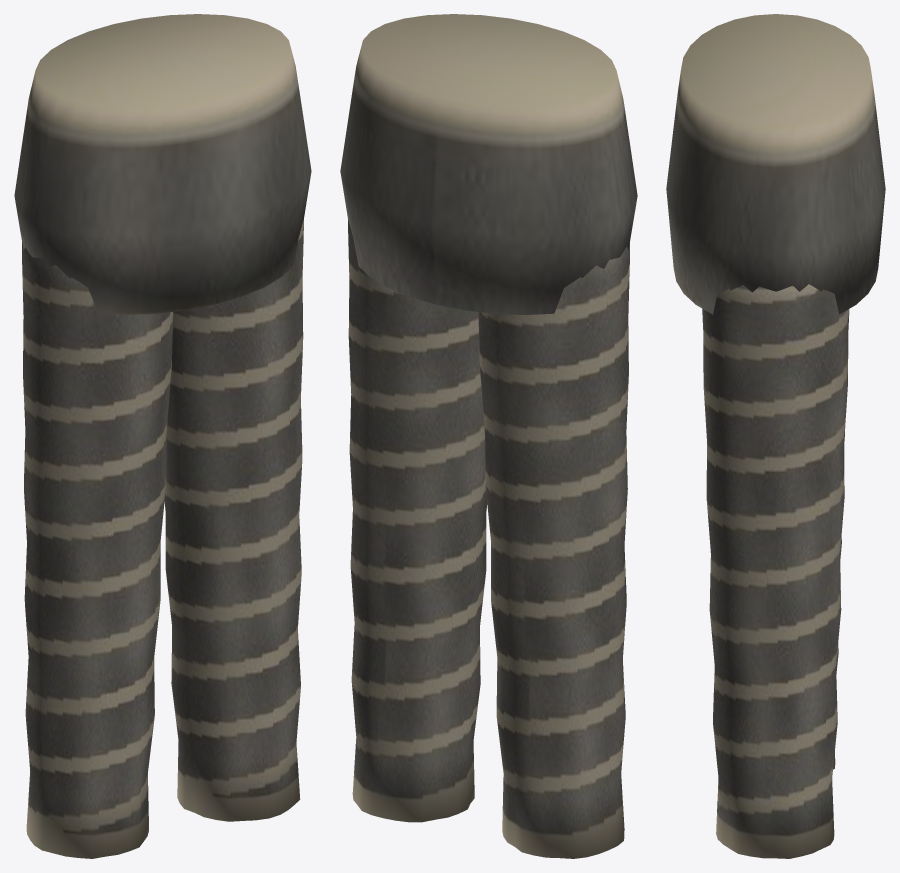
Rendered from ash_wraps_legs.glb.
3 renders of one model, left to right at view 1: azimuth 30°, elevation 25°; view 2: azimuth 150°, elevation 25°; view 3: azimuth 270°, elevation 25°, orthographic. The views are drawn at different scales.
Visible parts, largest first — view 1: ash_wraps_legs; view 2: ash_wraps_legs; view 3: ash_wraps_legs.
Boxes of the visible parts, x1,y1,x2,y2 form: ash_wraps_legs: (14,14,311,858); ash_wraps_legs: (340,14,637,858); ash_wraps_legs: (666,14,885,858).
Bounding box in the file's own units: 0.21 × 0.55 × 0.15.
Materials: 1 (1 with a texture image).
